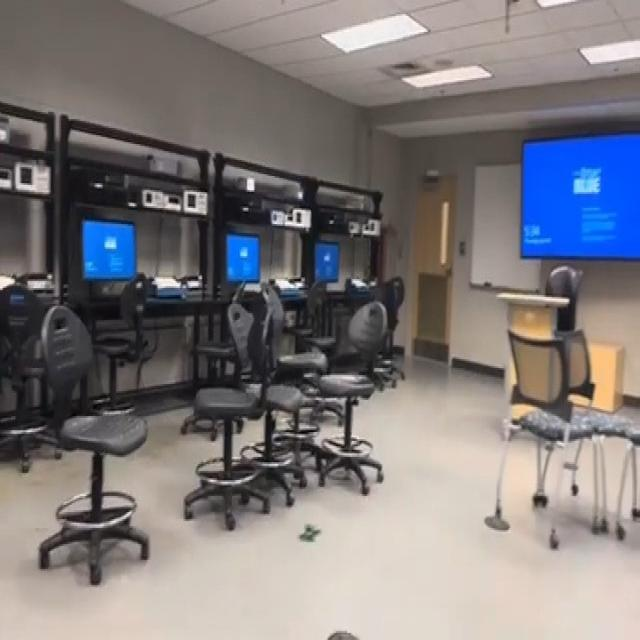drone: (289, 511, 331, 558)
